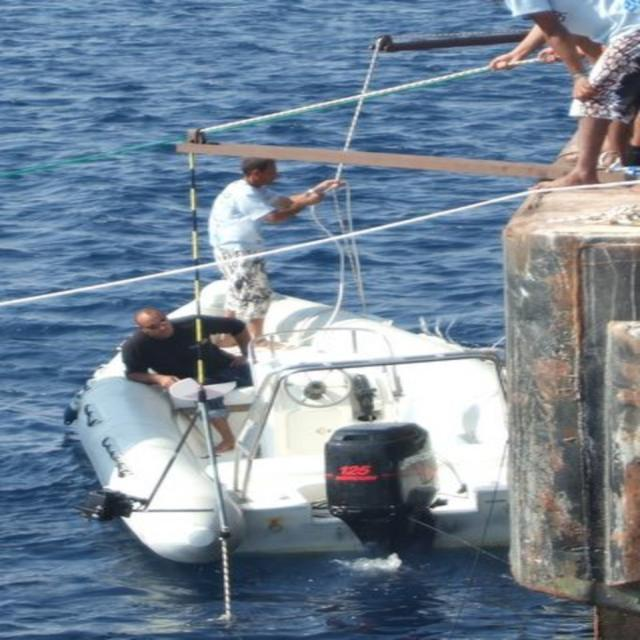Boat: (68, 267, 506, 592)
